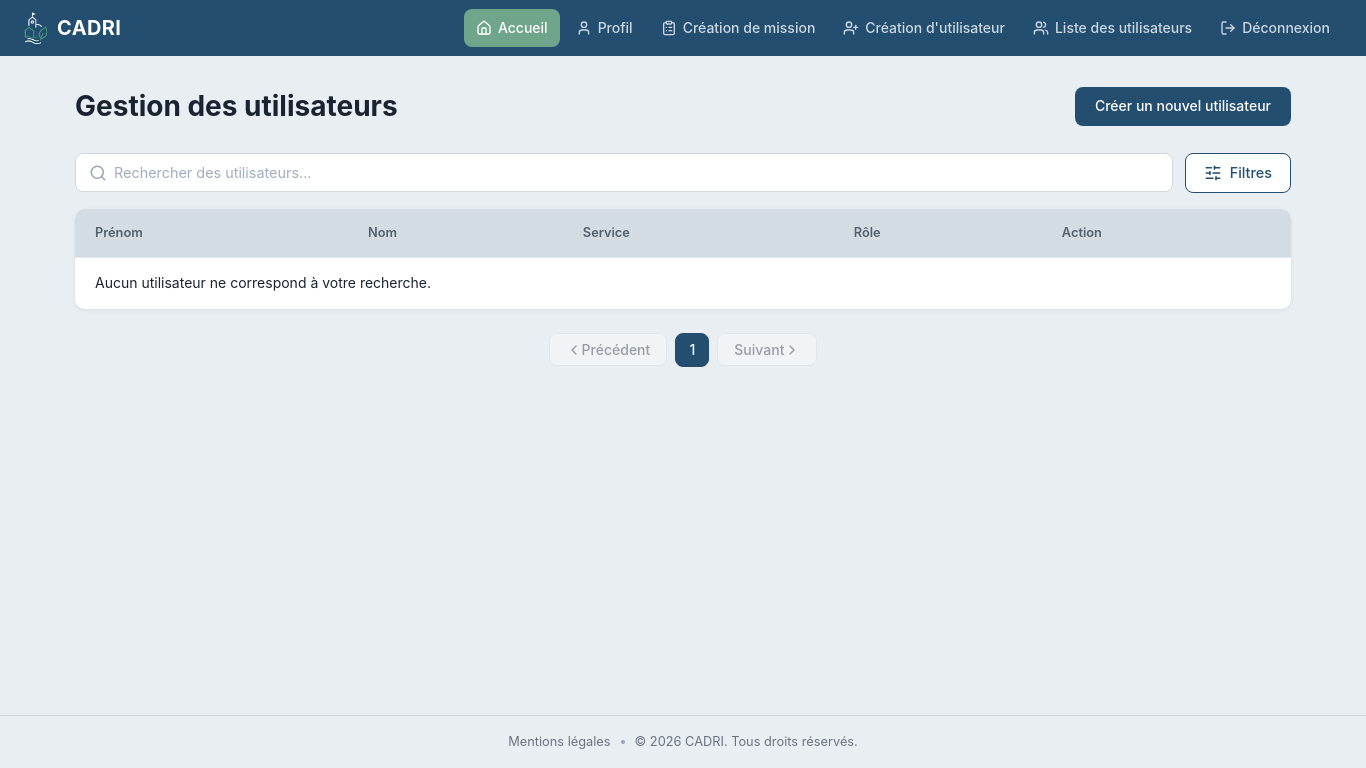
Test: UserManagementPage — liste › récupère bien tous les utilisateurs au-delà de la première page backend (>100)
The width and height of the screenshot is (1366, 768).
# "Nom150" only exists on the backend's second page (index 149).
Type "Nom150" into the search field with placeholder "Rechercher des utilisateurs..." at (624, 173), box [75,153,1173,192]
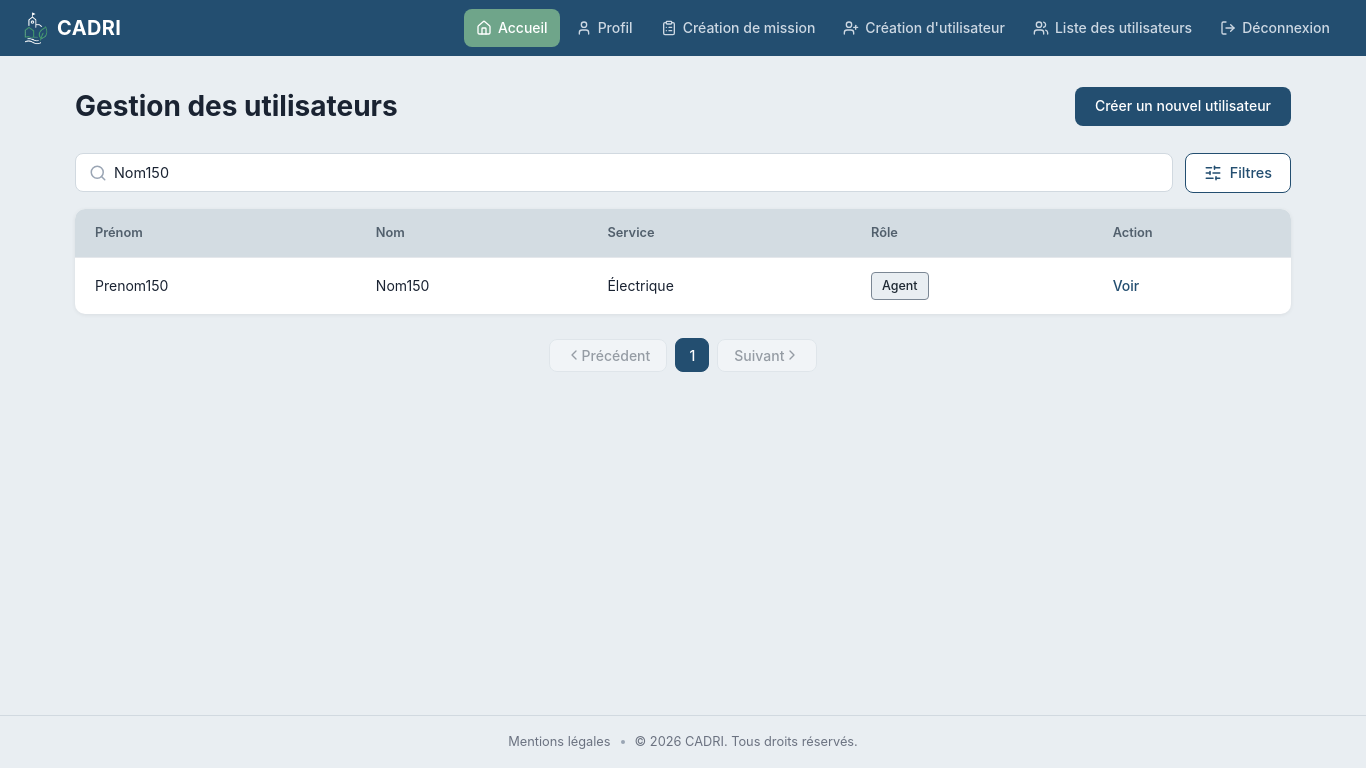
expect the text "Nom150" is shown: met, box [356,258,587,314]
